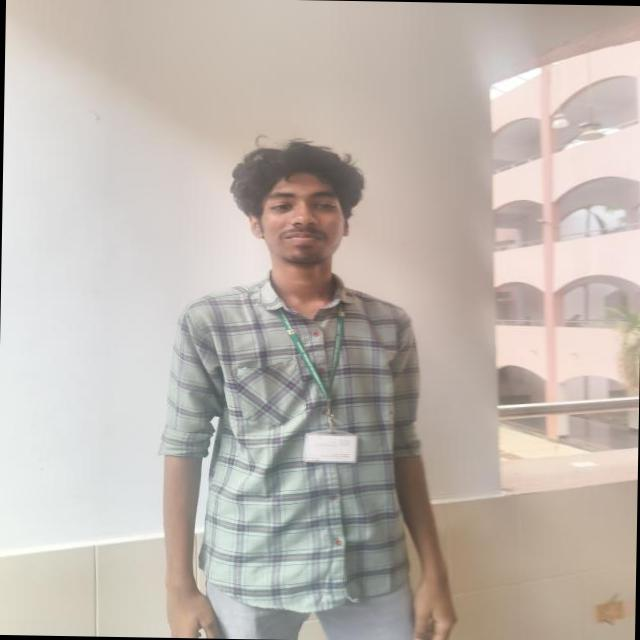id_card: (278, 306, 362, 469)
